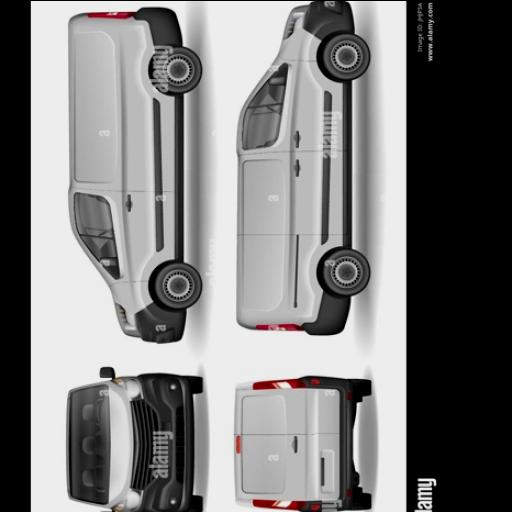van: (237, 2, 369, 335), (68, 9, 199, 343), (67, 367, 201, 512), (233, 376, 370, 512)
